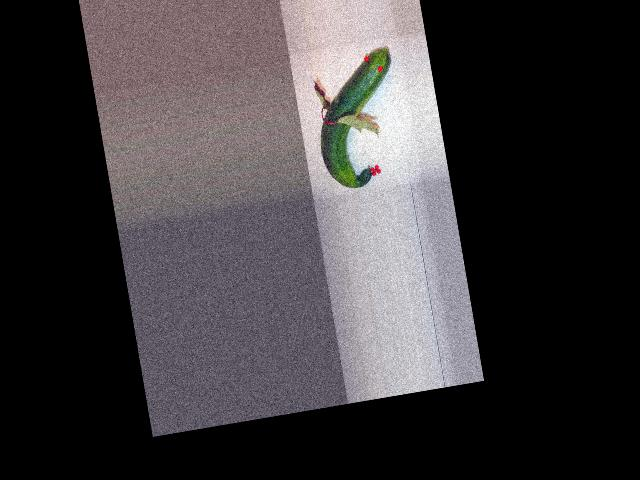cucumber: (306, 47, 411, 193)
